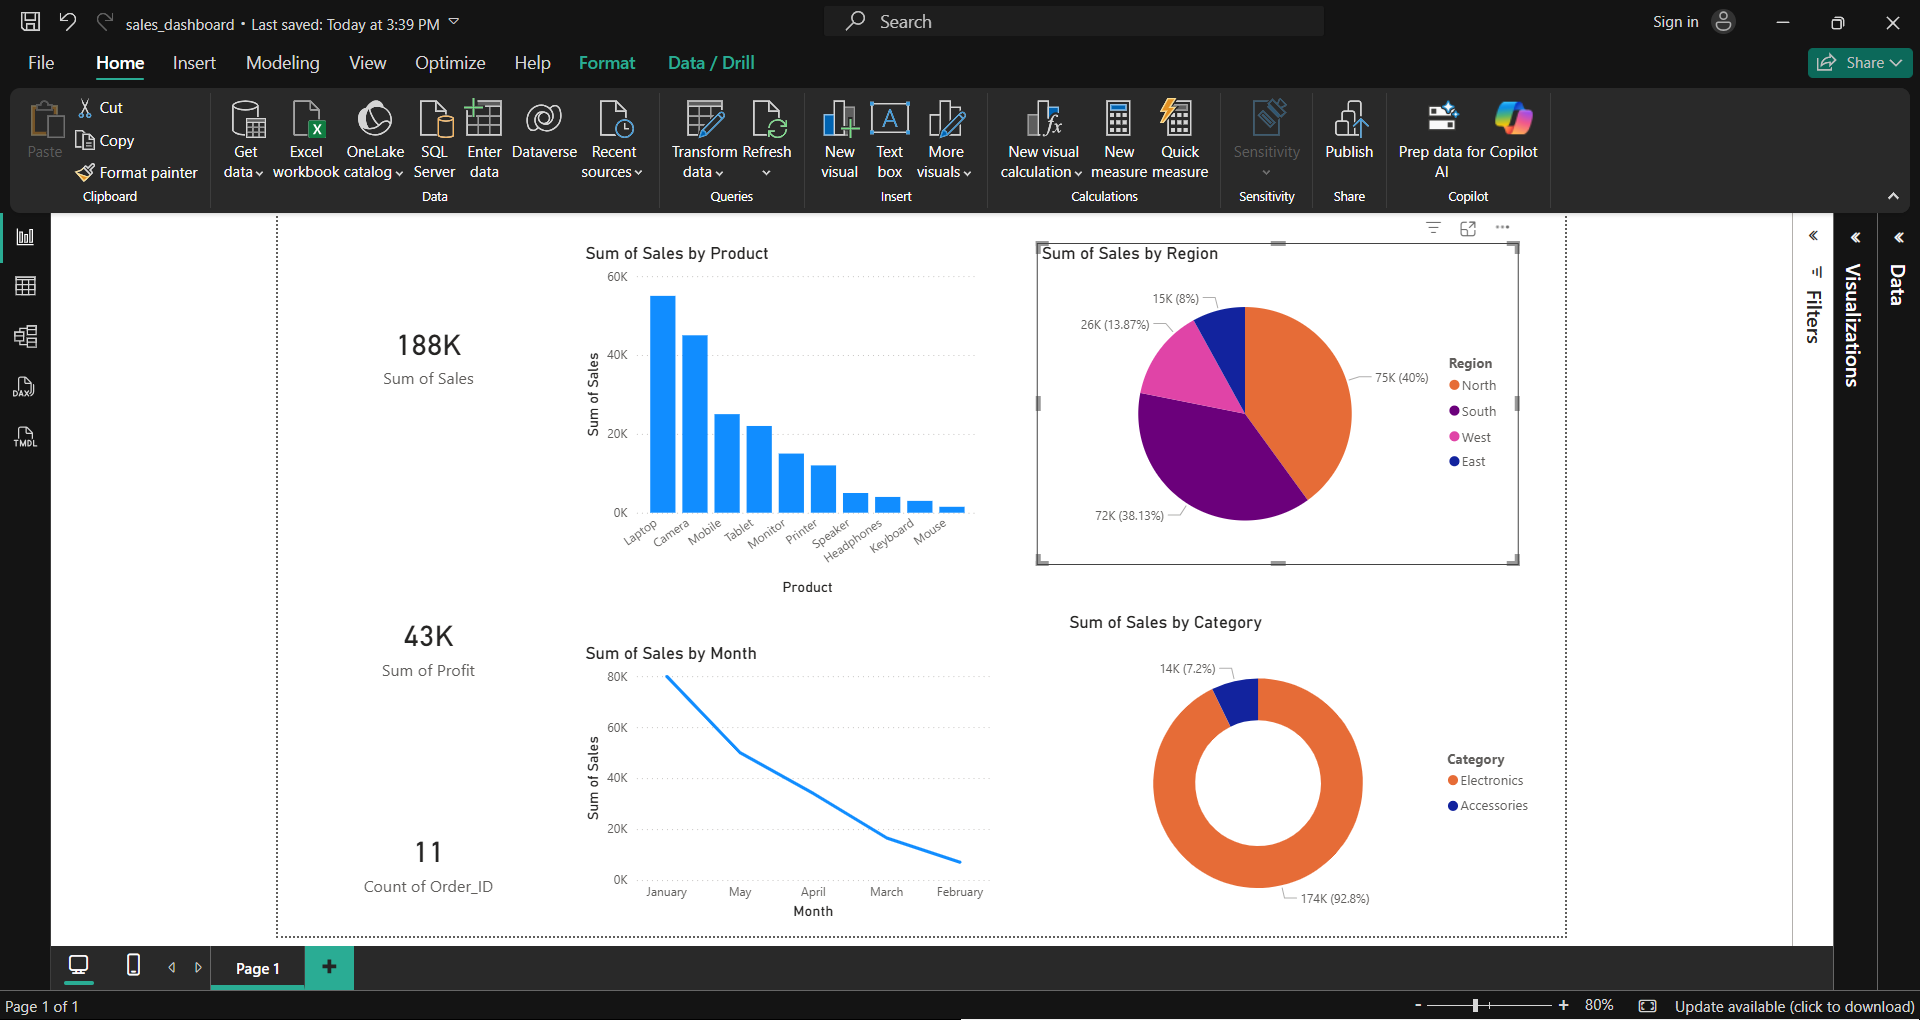

What the dashboard file says about the page in this screenshot:
{"tool":"powerbi","page":{"name":"Page 1","canvas":[1280,720],"ordinal":0},"visuals":[{"type":"card","fields":{"Values":["Sum(dataset.Sales)"]},"box":[10,0,280,280],"z":0},{"type":"card","fields":{"Values":["Sum(dataset.Profit)"]},"box":[10,290,280,280],"z":1},{"type":"card","fields":{"Values":["CountNonNull(dataset.Order_ID)"]},"box":[10,570,280,150],"z":2},{"type":"columnChart","fields":{"Category":["dataset.Product"],"Y":["Sum(dataset.Sales)"]},"box":[300.5,30.2,400.7,355.4],"z":3},{"type":"pieChart","fields":{"Category":["dataset.Region"],"Y":["Sum(dataset.Sales)"]},"box":[754.7,30.2,478.9,321.1],"z":4},{"type":"lineChart","fields":{"Category":["dataset.Month"],"Y":["Sum(dataset.Sales)"]},"box":[300.5,428.1,413,279.9],"z":5},{"type":"donutChart","fields":{"Category":["dataset.Category"],"Y":["Sum(dataset.Sales)"]},"box":[782.2,396.6,476.2,322.5],"z":6}]}

Visuals, with their boxes on the page's 1280x720 design canvas (x1, y1, x2, y2). These are canvas units, not pixel positions in the 1920x1020 screenshot, which may show the page scaled, cropped or inside an application window:
card - Sum(dataset.Sales): select_region(10, 0, 290, 280)
card - Sum(dataset.Profit): select_region(10, 290, 290, 570)
card - CountNonNull(dataset.Order_ID): select_region(10, 570, 290, 720)
columnChart - dataset.Product x Sum(dataset.Sales): select_region(300, 30, 701, 386)
pieChart - dataset.Region x Sum(dataset.Sales): select_region(755, 30, 1234, 351)
lineChart - dataset.Month x Sum(dataset.Sales): select_region(300, 428, 714, 708)
donutChart - dataset.Category x Sum(dataset.Sales): select_region(782, 397, 1258, 719)
